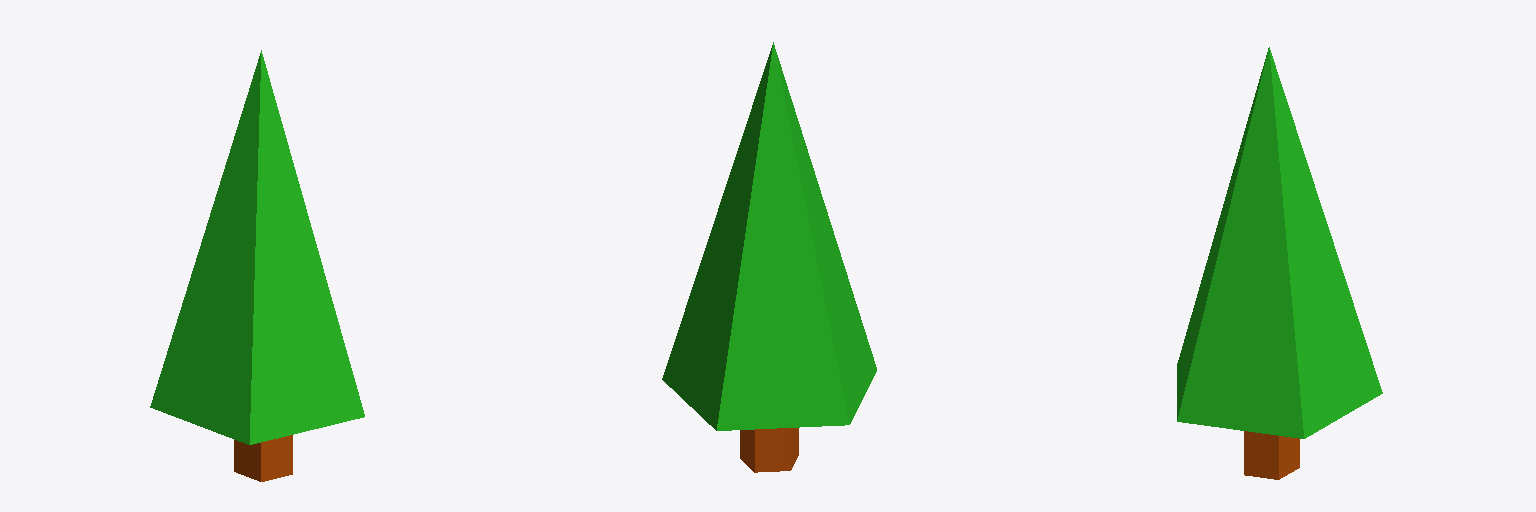
File: sapin2.obj
3 views of the same model, side by side, from view 1: azimuth 30°, elevation 25°; view 2: azimuth 150°, elevation 25°; view 3: azimuth 270°, elevation 25° (orthographic).
Visible parts, largest first — view 1: Cone.002, Cylinder; view 2: Cone.002, Cylinder; view 3: Cone.002, Cylinder.
Part boxes in pixels (x1,y1,x2,y2): Cone.002: (150,50,364,444); Cylinder: (234,435,292,481); Cone.002: (662,42,876,430); Cylinder: (740,428,798,472); Cone.002: (1177,47,1382,438); Cylinder: (1244,431,1299,479).
Size of the model in its own units: 2.15 by 4.59 by 2.04.